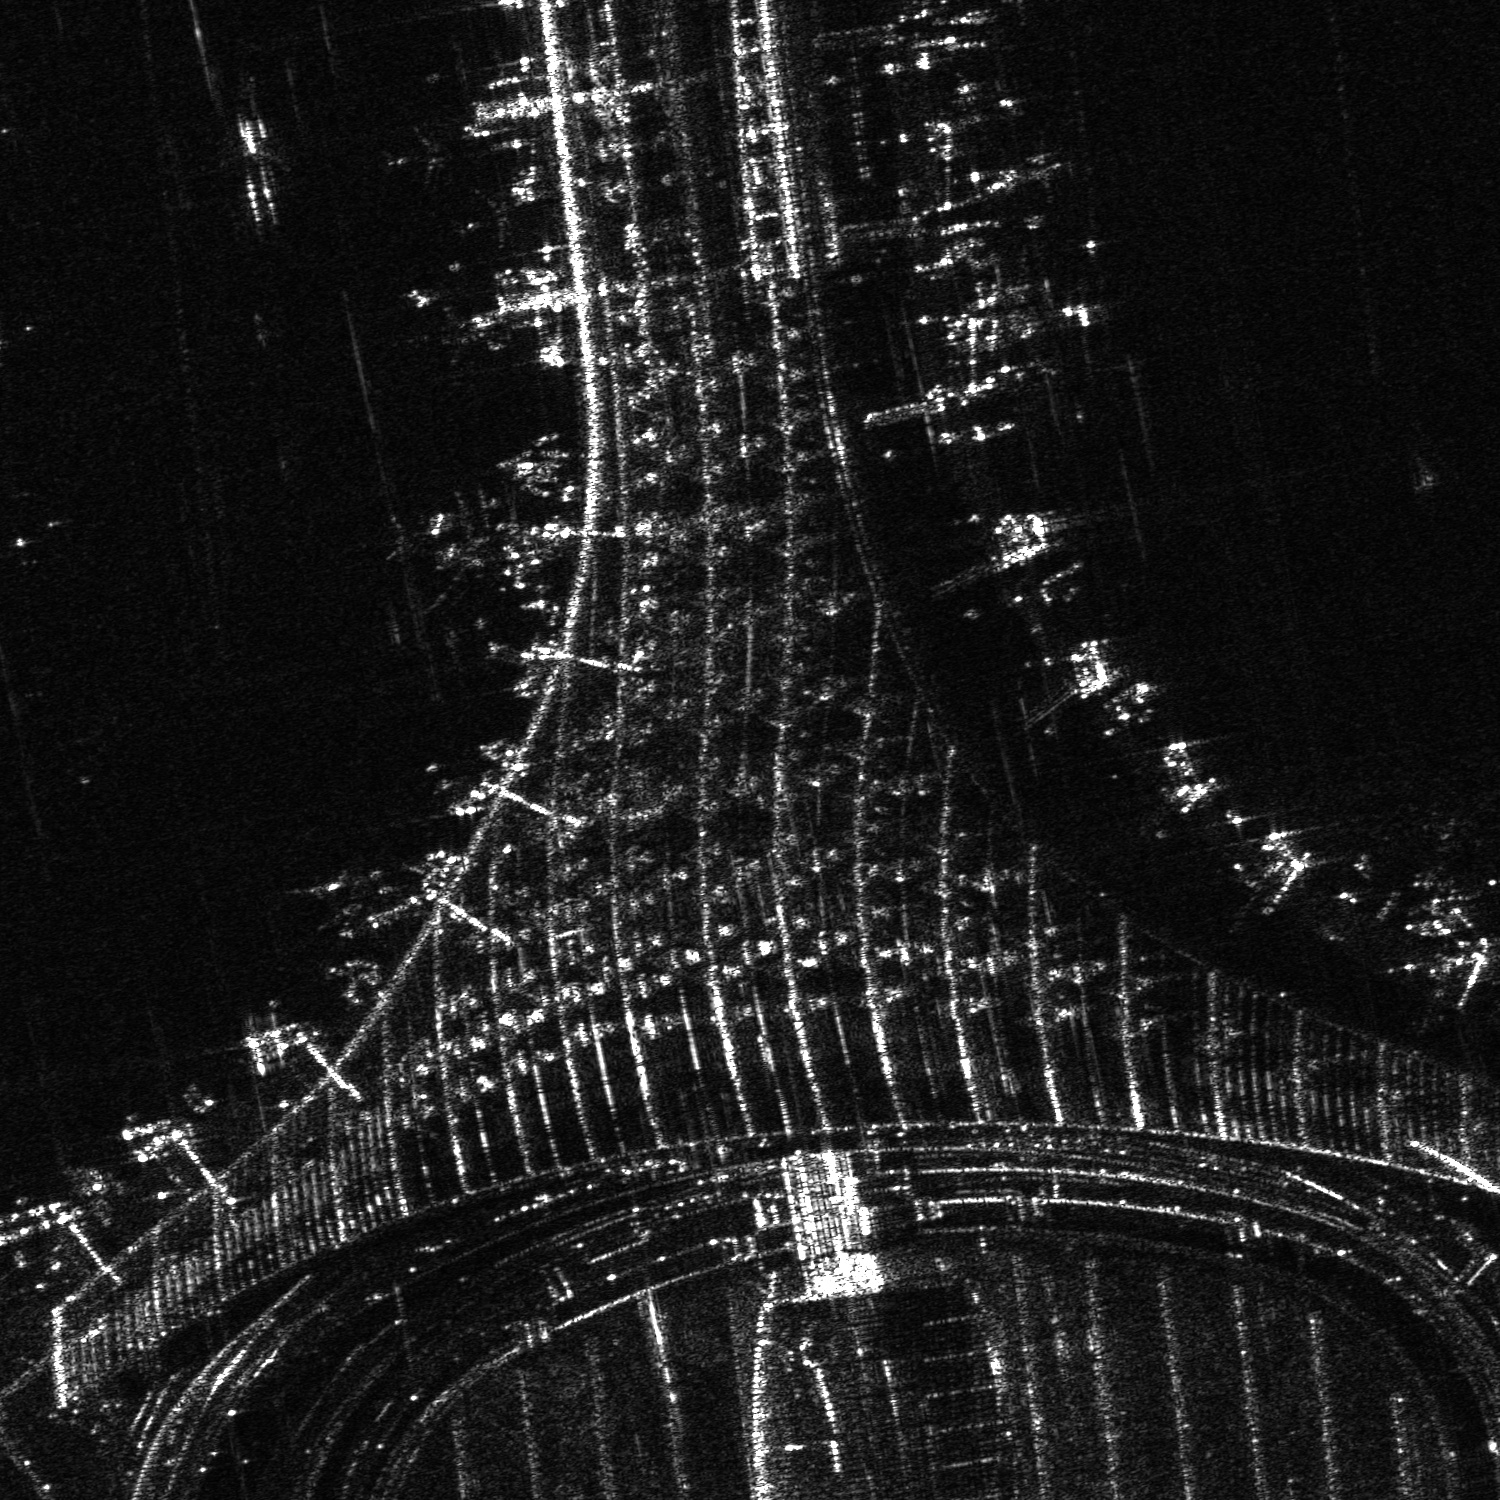Boeing787: (391, 488, 503, 615), (387, 125, 455, 188), (462, 191, 521, 249)
